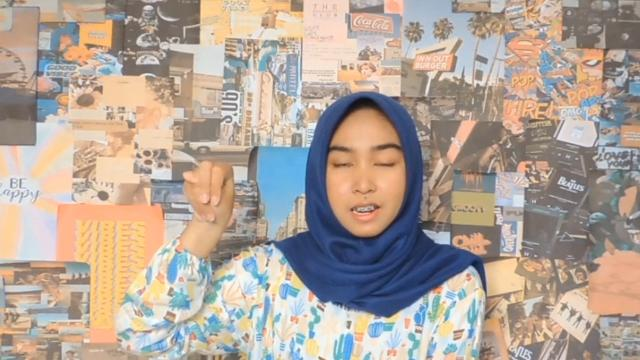N: (180, 158, 240, 228)
